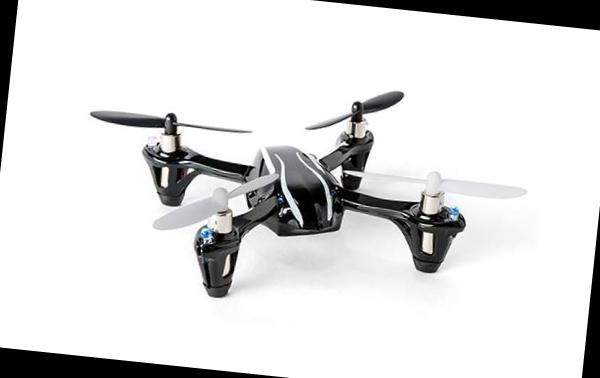drone: (58, 37, 543, 330)
